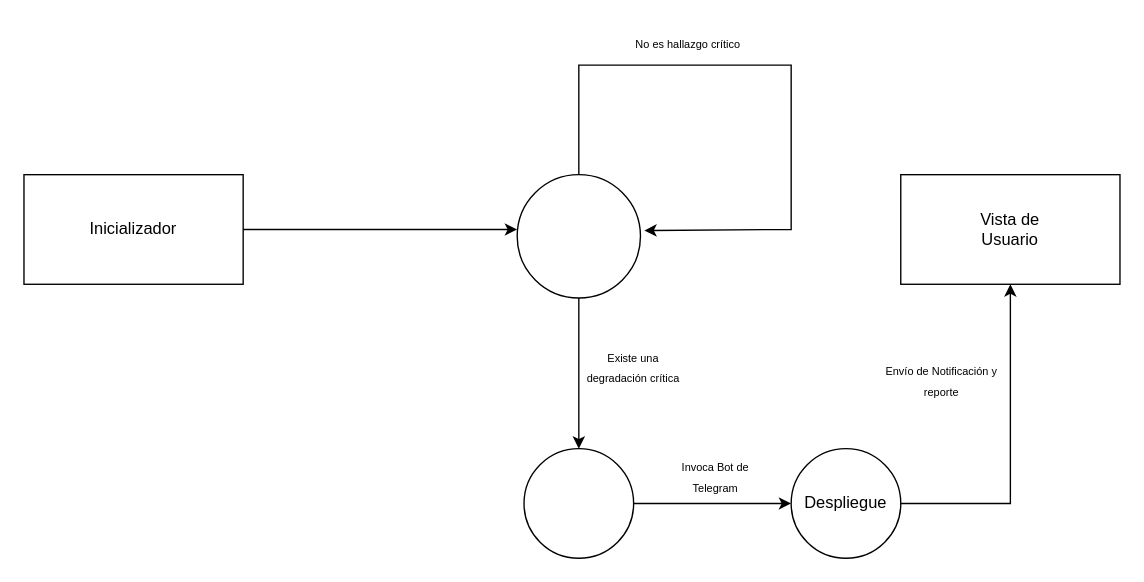
Some shapes in this 1144 by 582 pixel diagram are drawn without their labels. The centre of each missing label's shape, as x and y in pixels:
Filtro de Degradación: the point at 578,235
Procesa información: the point at 578,502
